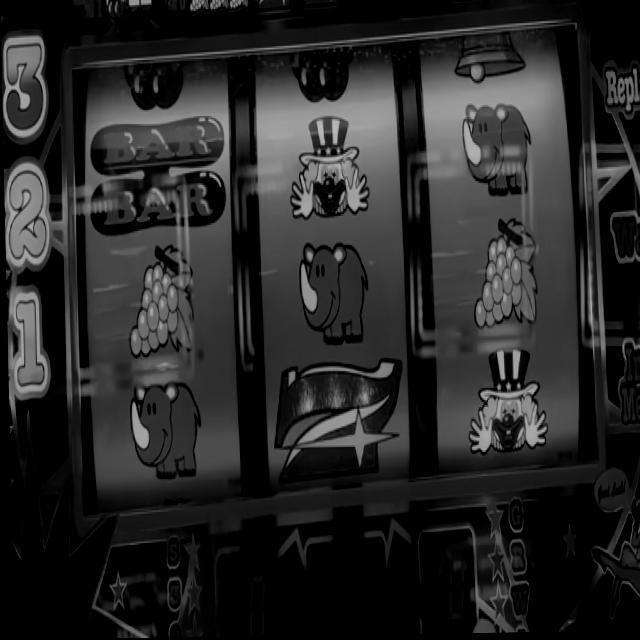bar: (87, 112, 226, 235)
bell: (457, 34, 530, 85)
cherry: (288, 51, 357, 113), (120, 60, 184, 109), (105, 2, 127, 22)
clown: (464, 344, 549, 455), (287, 114, 373, 217)
display: (66, 24, 608, 516)
elephant: (298, 237, 370, 346), (127, 382, 201, 477), (461, 105, 533, 202)
grape: (126, 245, 197, 358), (470, 219, 538, 330), (229, 0, 251, 17), (206, 0, 229, 16), (188, 0, 208, 16)
z: (270, 359, 404, 476), (255, 0, 293, 12)
